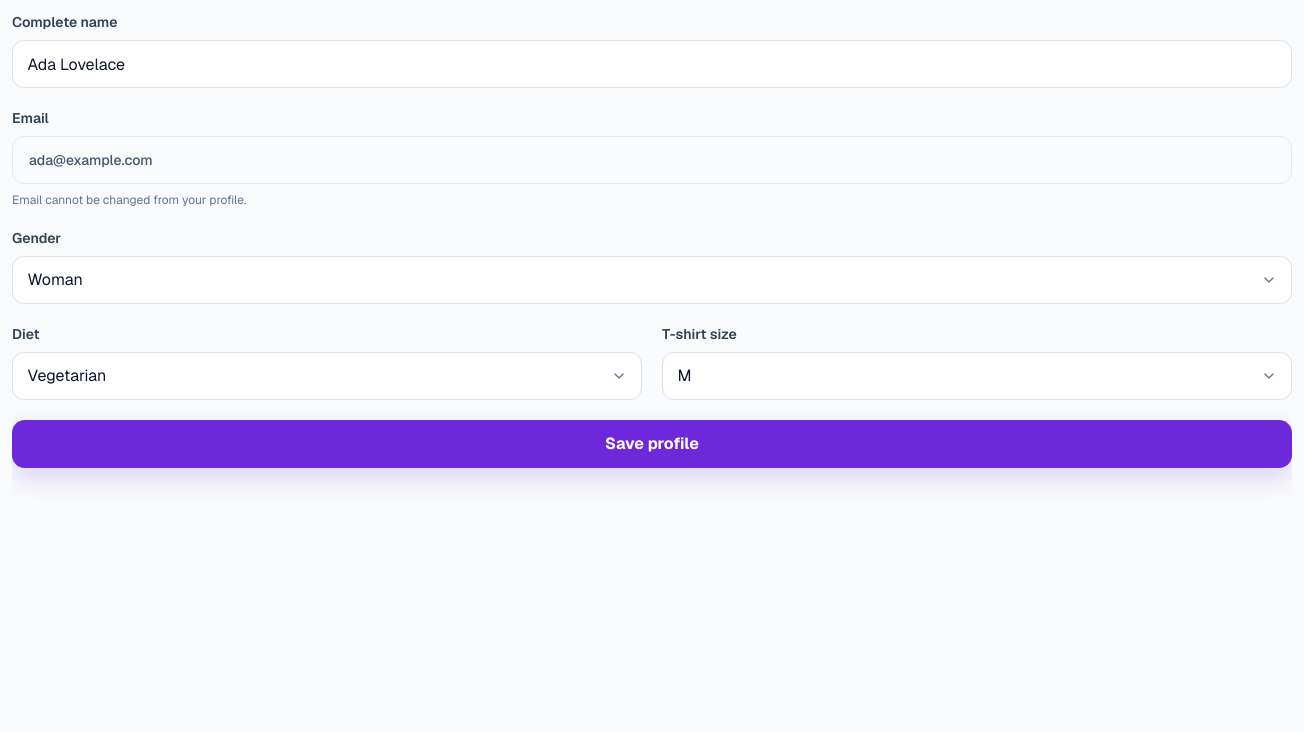
Test case: ProfileForm › shows a success message returned from the action
Click the button "Save profile": (652,444) [12,420,1292,468]
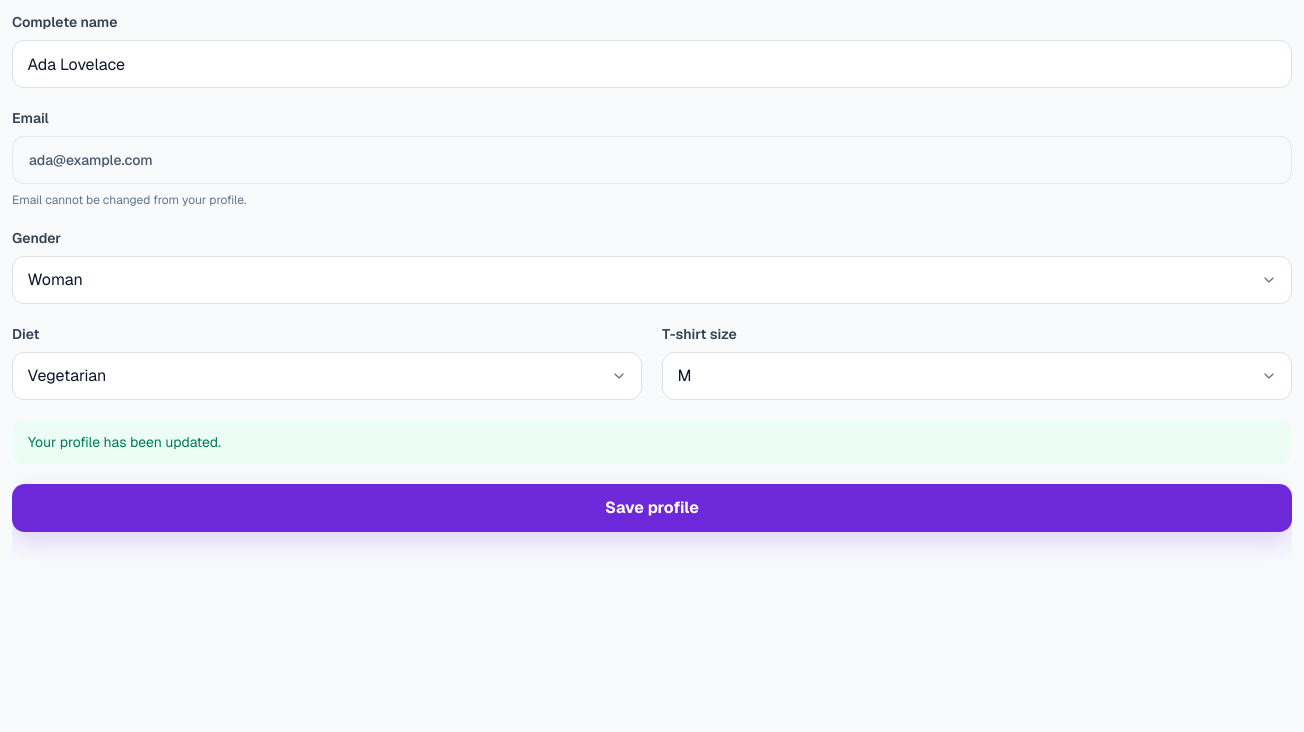
Check: the message reads "Your profile has been updated.", box [28,433,221,451]
